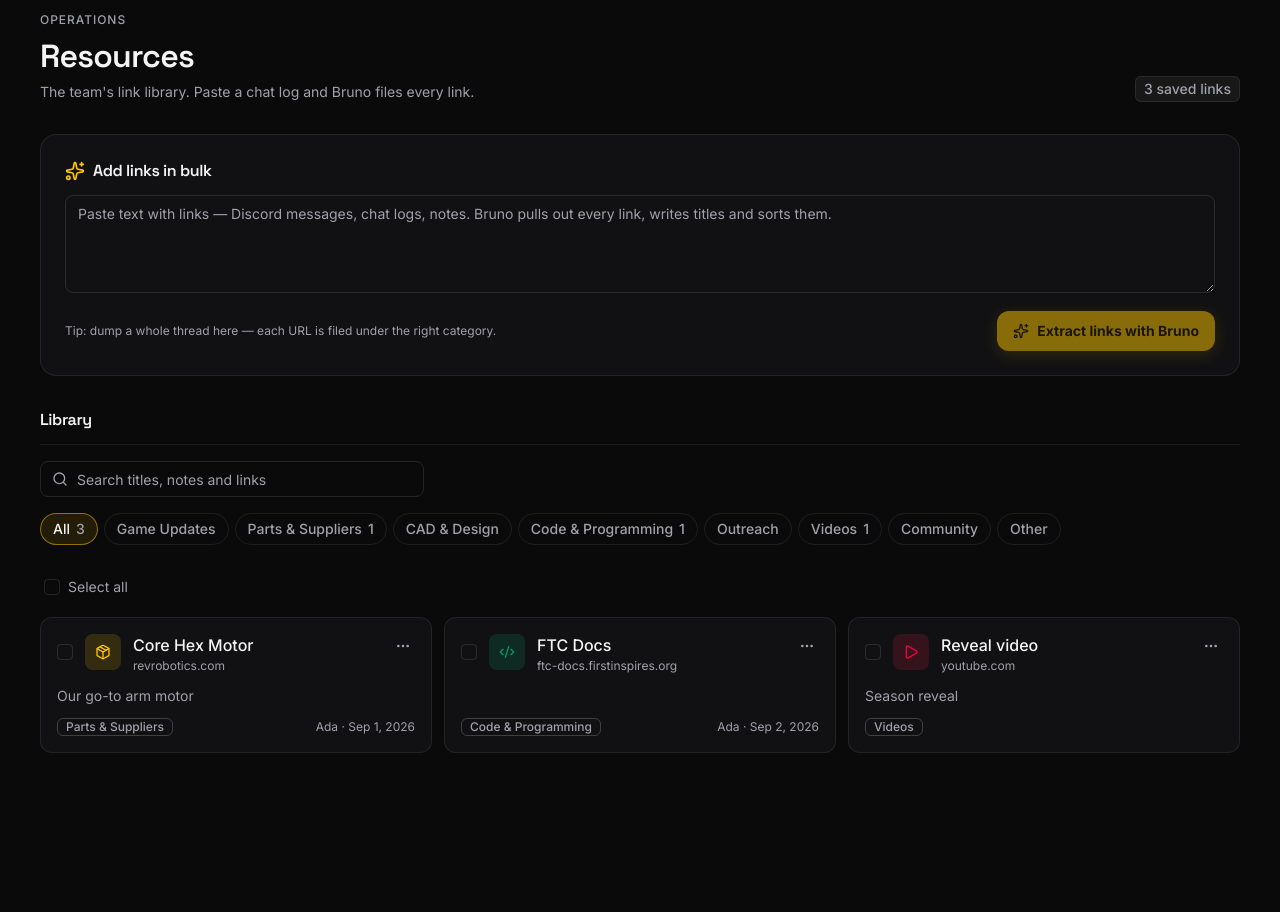
Scenario: Modern Resources › judges links against the library as it is when Bruno answers
Expected: the link "Core Hex Motor" is shown, [133,635,254,655]
Replace the text in the text box labelled "text with links" with "links": point(640, 244) [65,195,1215,293]
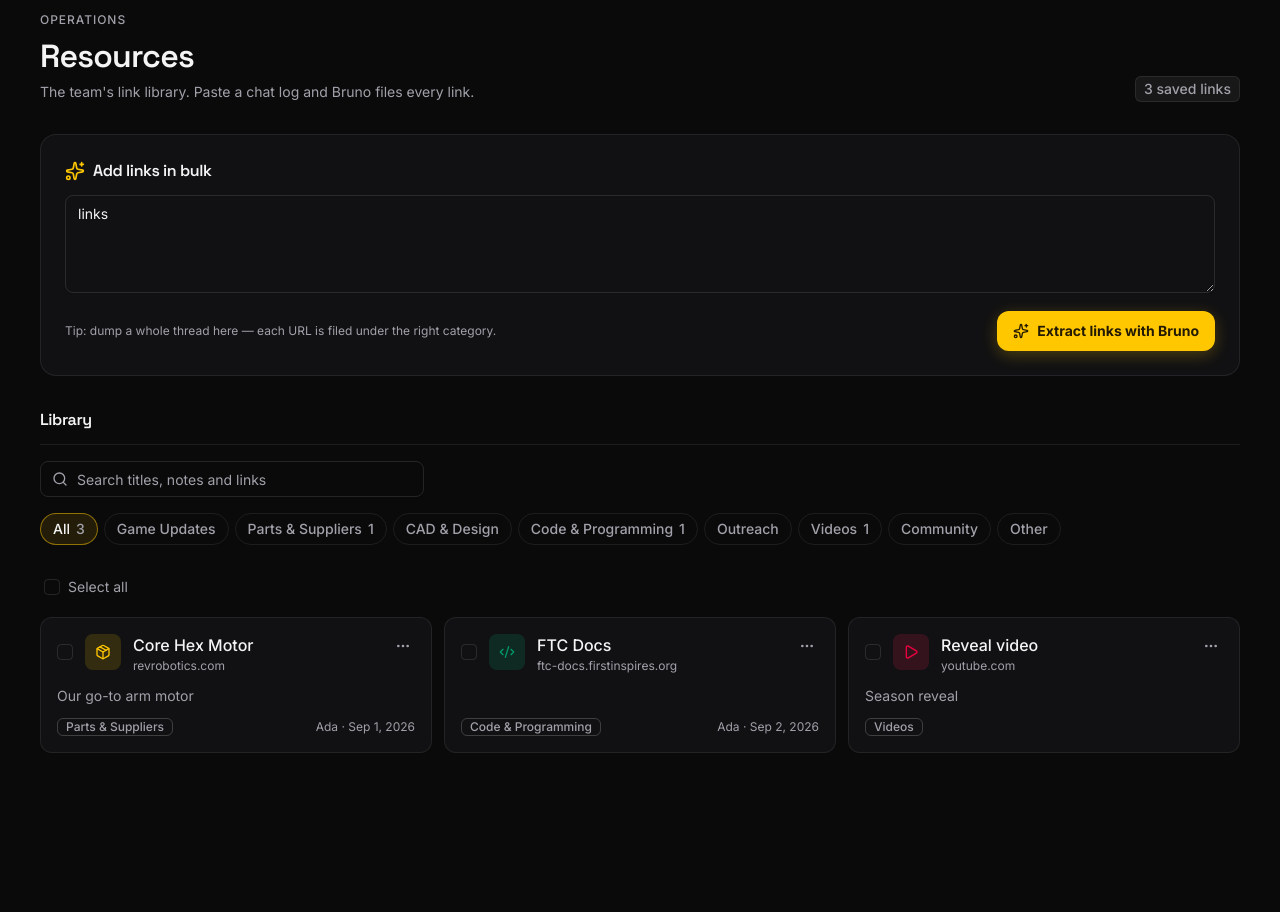
Click the button "Extract links with Bruno": point(1106, 331) [997,311,1215,351]
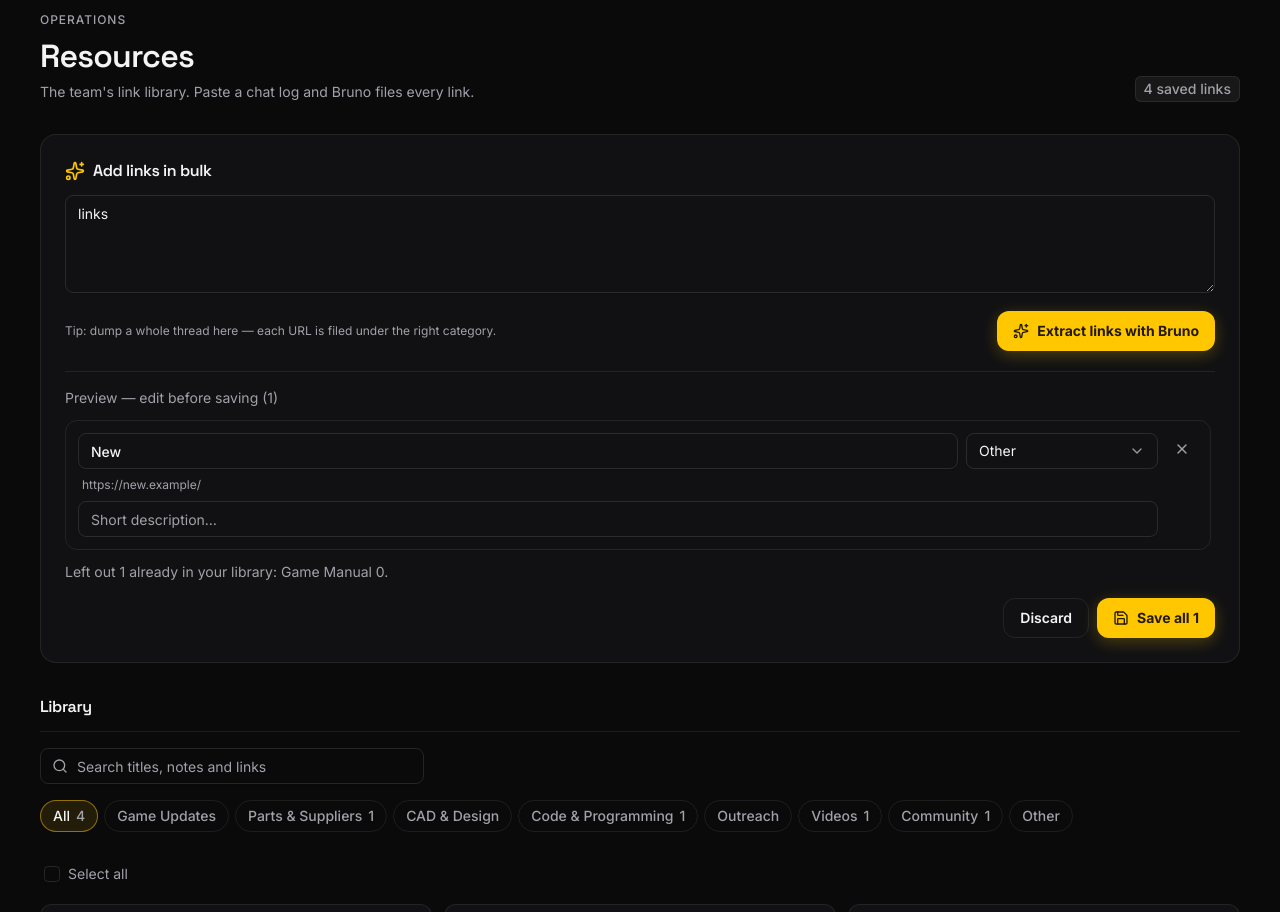
Expected: the text "Preview — edit before saving (1)" is shown, [65,389,278,406]
Expected: the text "Left out 1 already in your library: Game Manual 0." is shown, [65,563,388,580]
Expected: the text "4 saved links" is shown, [1135,76,1240,102]
